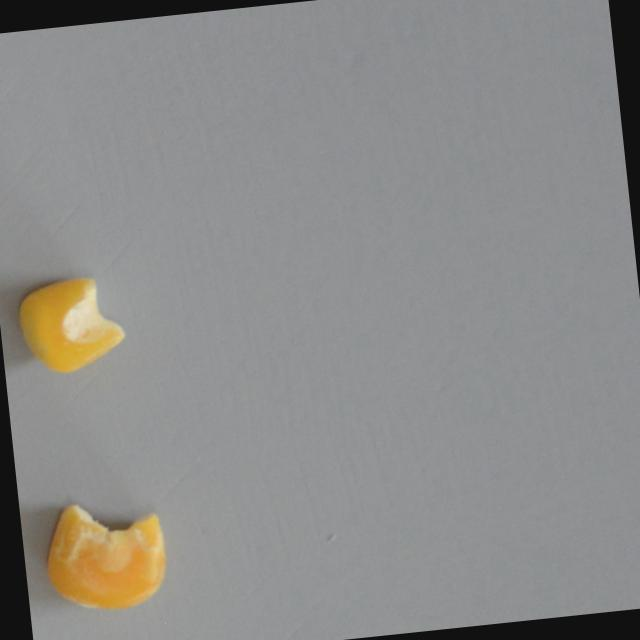no_canjicado: (12, 273, 128, 378)
pelicula: (36, 494, 170, 617)
